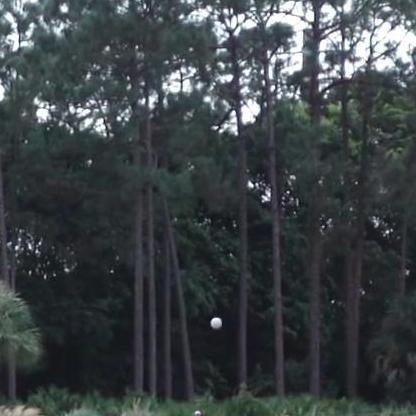golfball: (207, 316, 221, 329)
